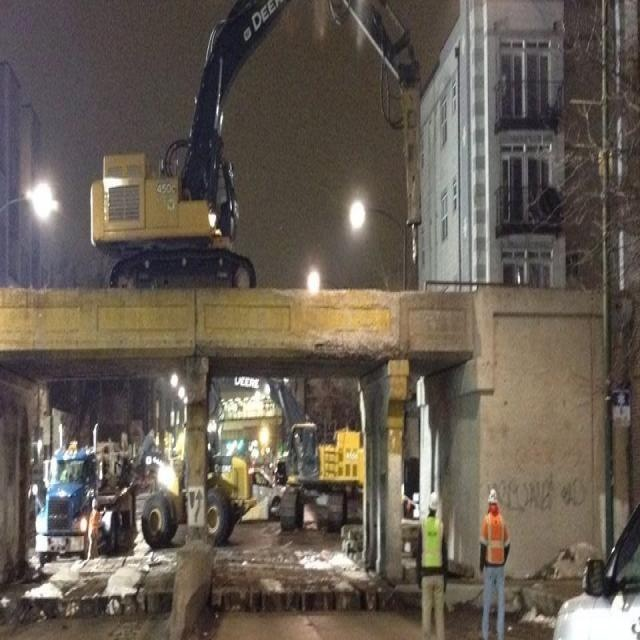Con_Chaleco: (482, 513, 508, 571), (420, 514, 446, 571)
